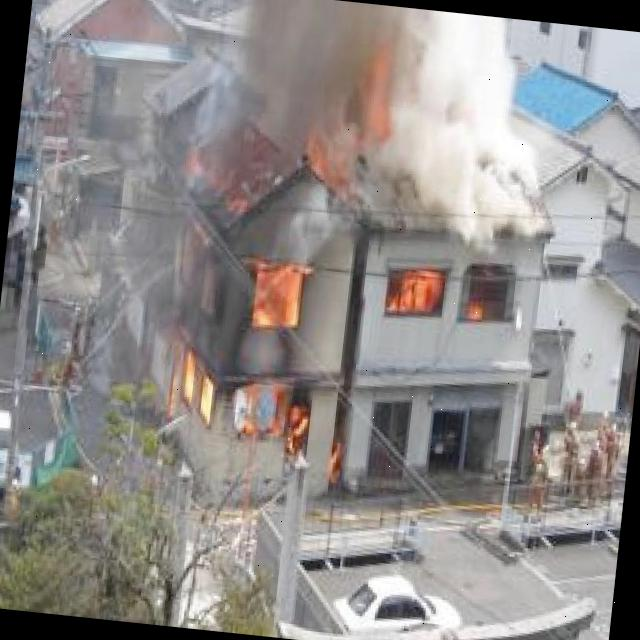fire: (166, 241, 364, 487), (304, 51, 398, 198), (392, 271, 496, 323)
